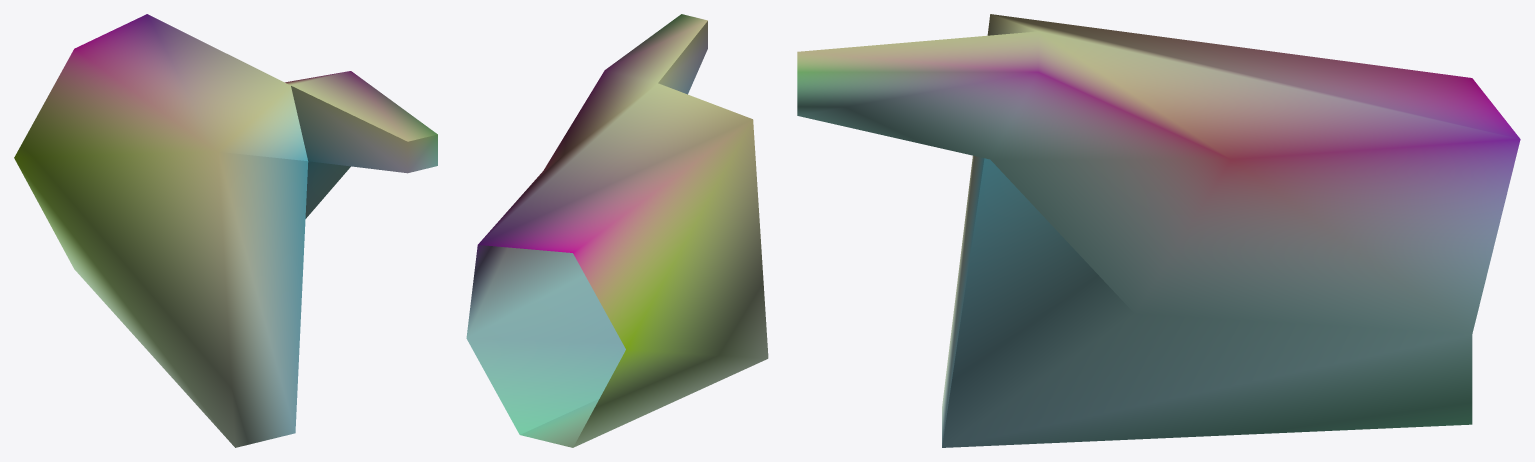
The picture shows the model from 3 angles, left to right: view 1: azimuth 30°, elevation 25°; view 2: azimuth 150°, elevation 25°; view 3: azimuth 270°, elevation 25°; orthographic projection. The views are drawn at different scales.
Visible parts, largest first — view 1: part; view 2: part; view 3: part.
Boxes of the visible parts, x1,y1,x2,y2 form: part: [14, 14, 437, 447]; part: [466, 14, 768, 447]; part: [797, 14, 1520, 447].
Bounding box in the file's own units: 6 × 10 × 15.
